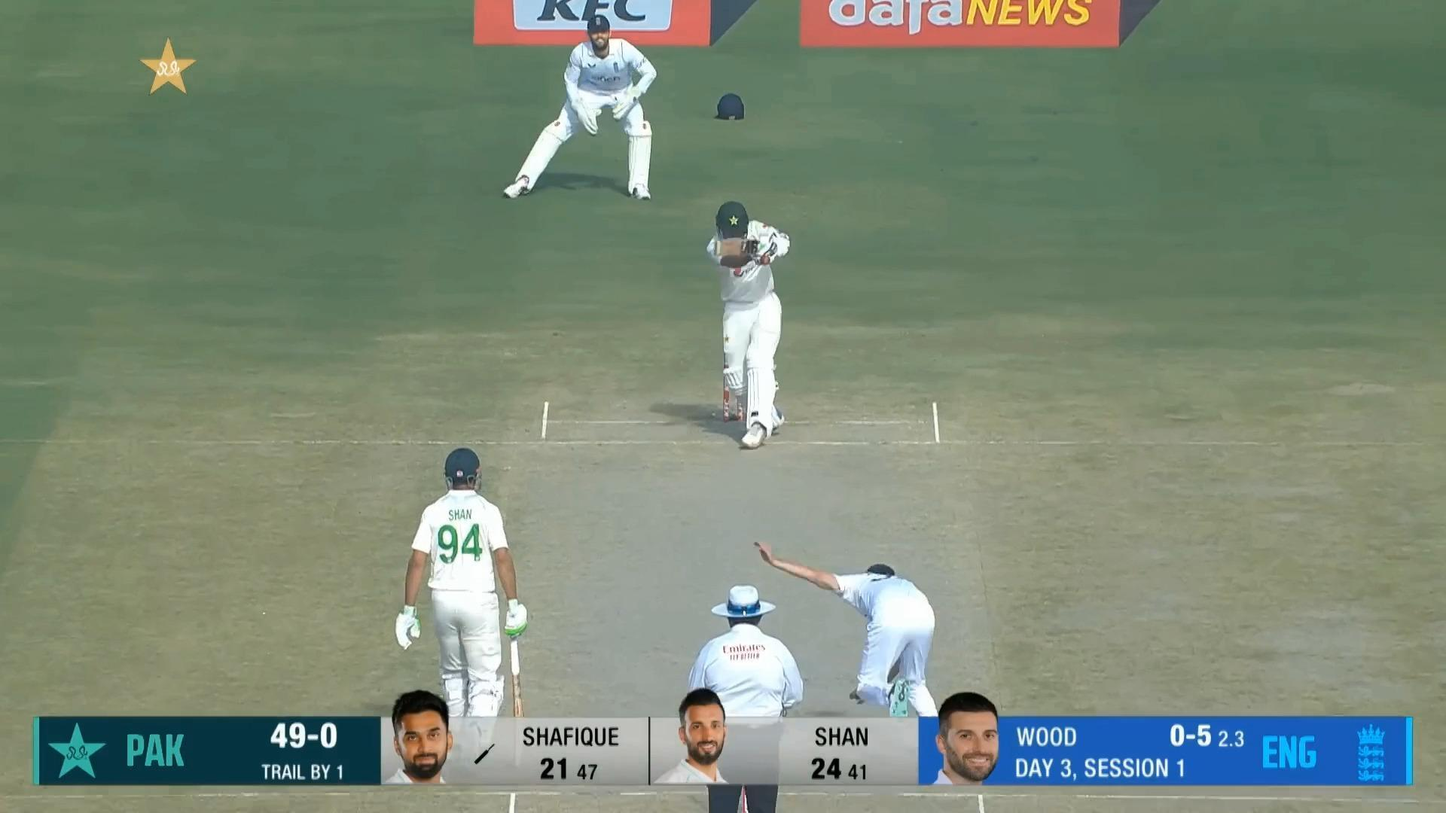BM 1: (706, 202, 791, 449)
BO: (749, 533, 954, 761)
